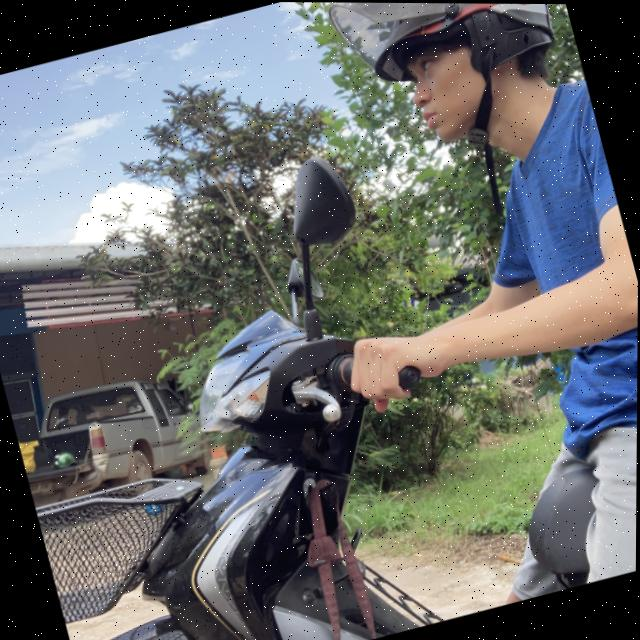helmet: (320, 2, 583, 178)
